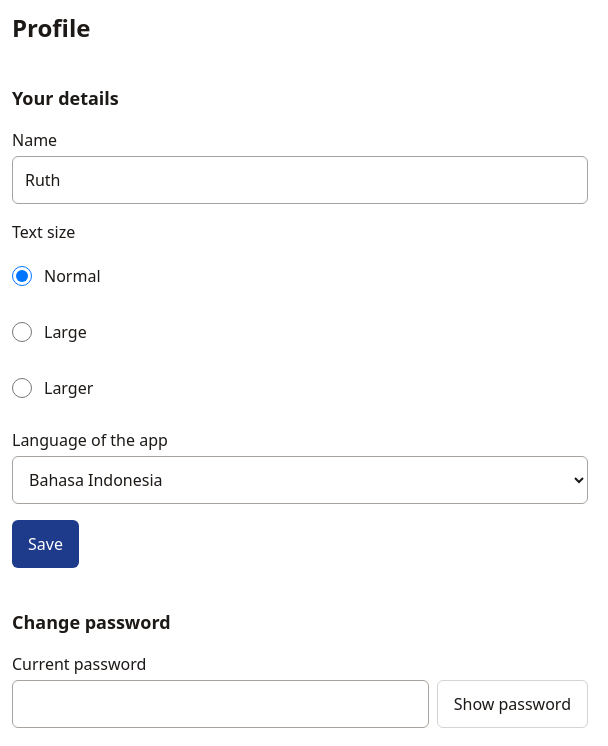
ProfilePage › saves text size and goes back to the church's language
The image size is (608, 746).
Click the radio button labelled "Larger".
click(22, 388)  # box [12,378,32,398]
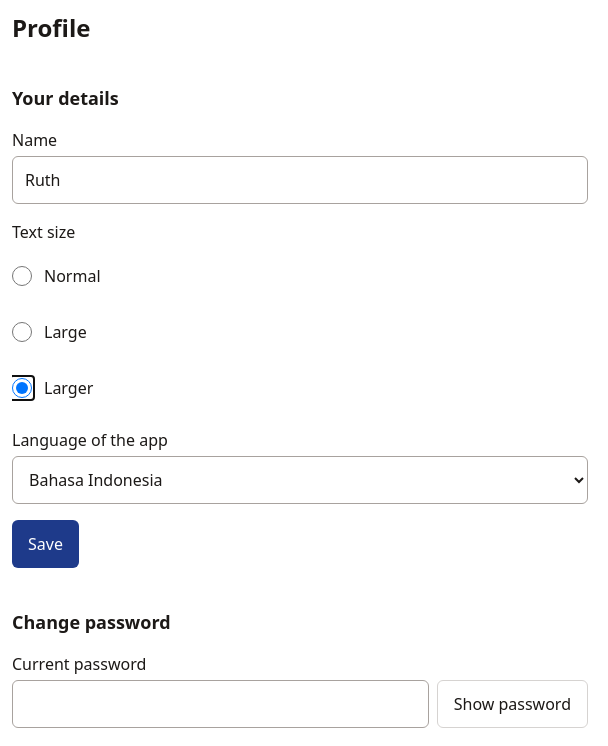
Select "Church default (Bahasa Indonesia)" in the dropdown labelled "Language of the app" at (300,480), box [12,456,588,504]
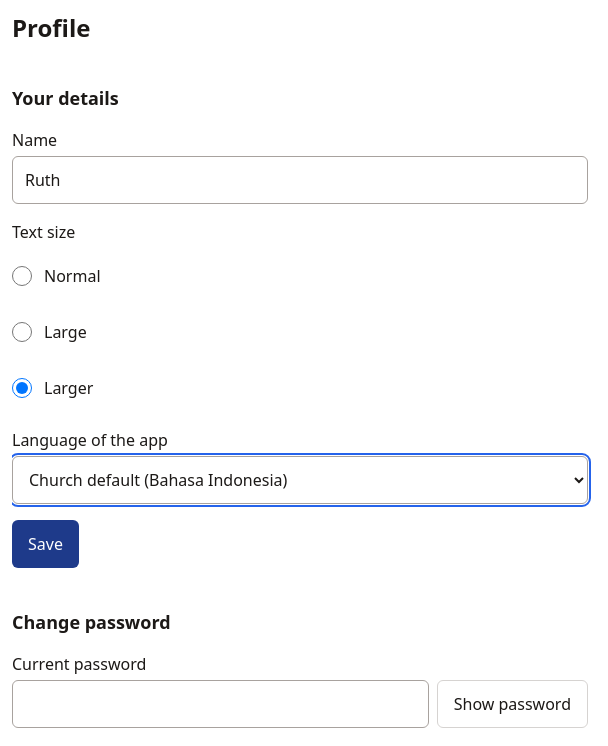
Click the button "Save".
click(45, 544)  # box [12,520,79,568]
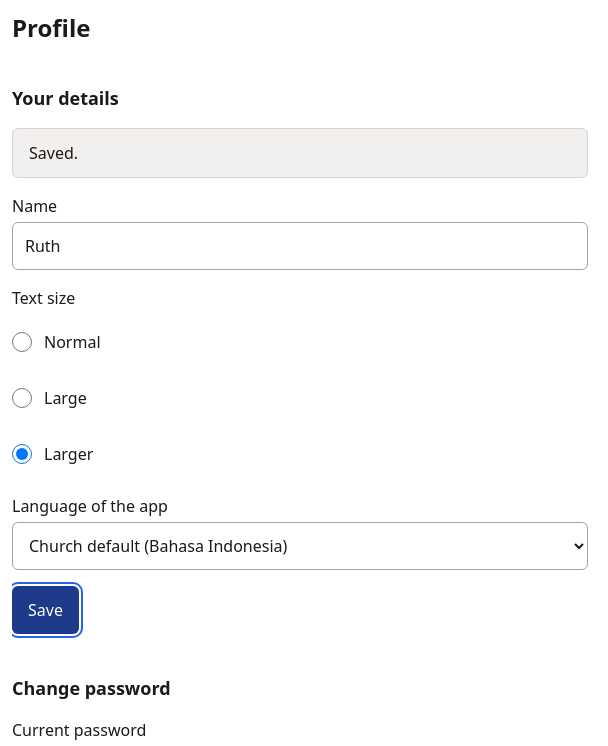
Result: the text "Saved." is shown at [12,128,588,178]
